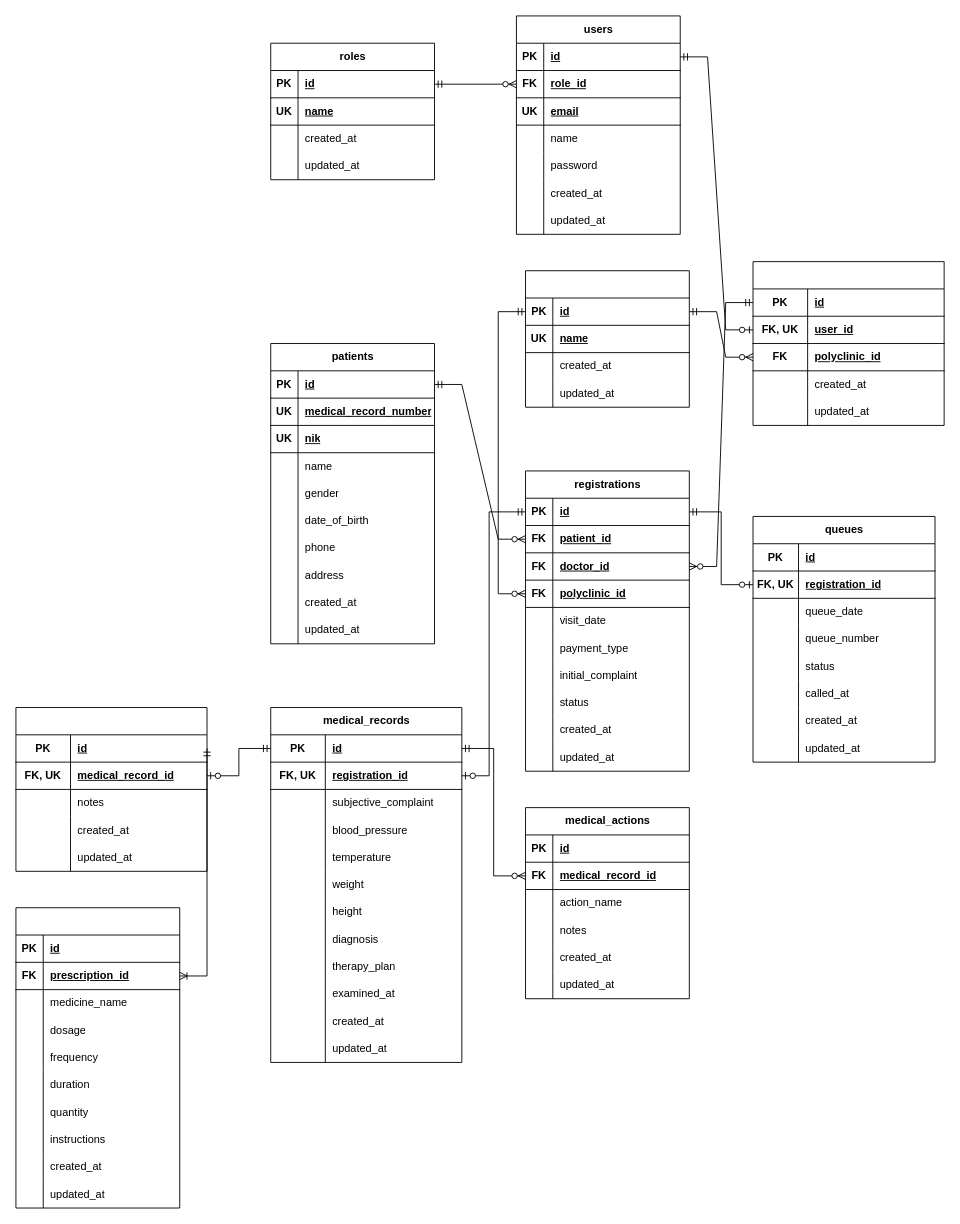
Some shapes in this 960 by 1224 pixel diagram are drawn without their labels. Here are the shapes that lost their labels. From the top down, the box of each, then its label:
(525, 270, 689, 407): polyclinics
(752, 261, 944, 425): doctors
(15, 707, 207, 871): prescriptions
(15, 907, 180, 1208): prescription_items
